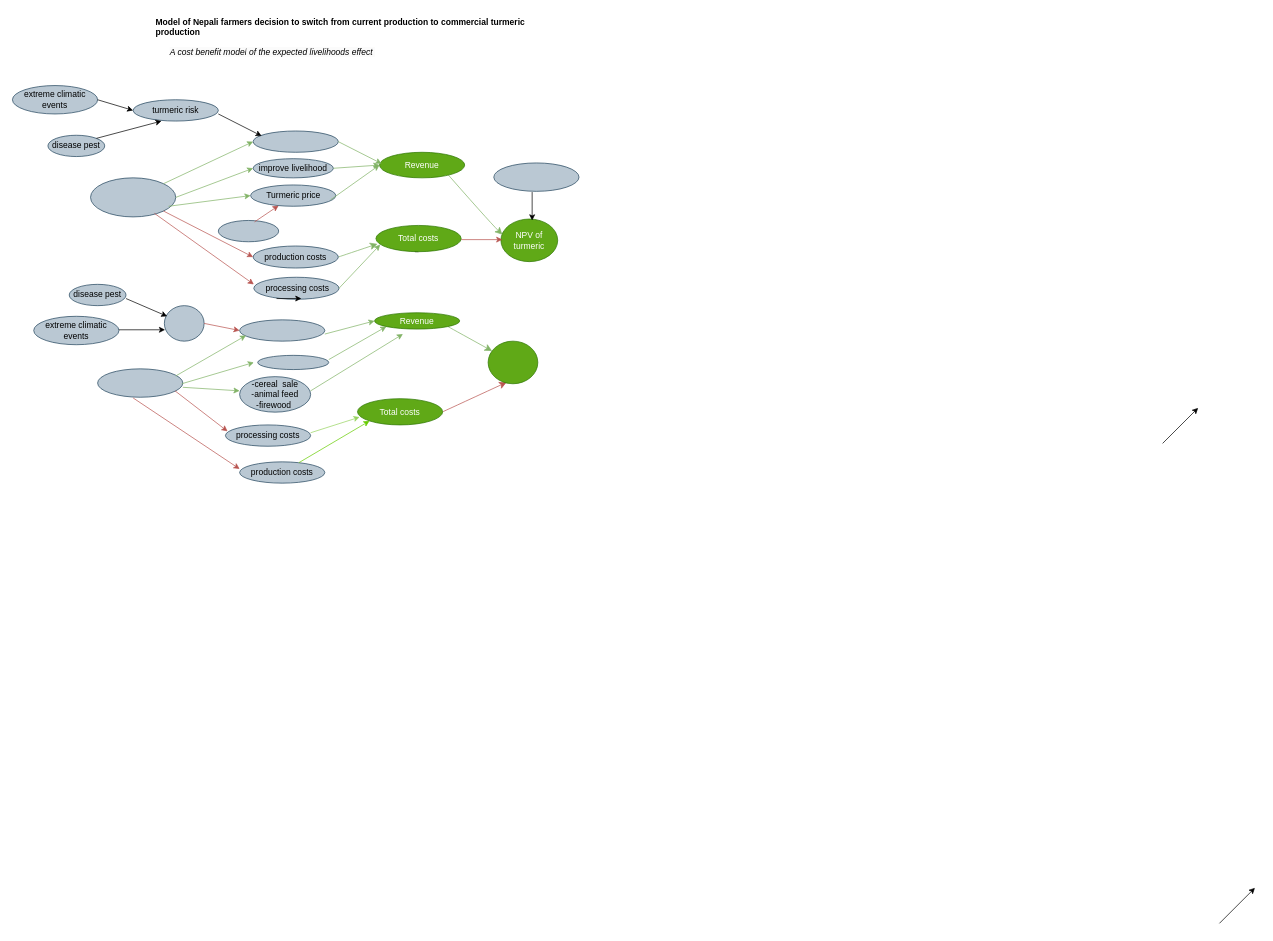
Image size: 1273x941. Some labels were removed from this diagram. The shapes that lost their labels are listed below. From the top down, each one's centre as x and y in pixels, then its label:
the point at 295,141: Turmeric yield
the point at 536,176: Discount rate
the point at 133,197: Turmeric production
the point at 248,231: market access
the point at 184,323: cereal risk
the point at 282,330: cereal yield
the point at 140,382: cereal production
the point at 293,362: food access
the point at 512,362: NPV of cereal
